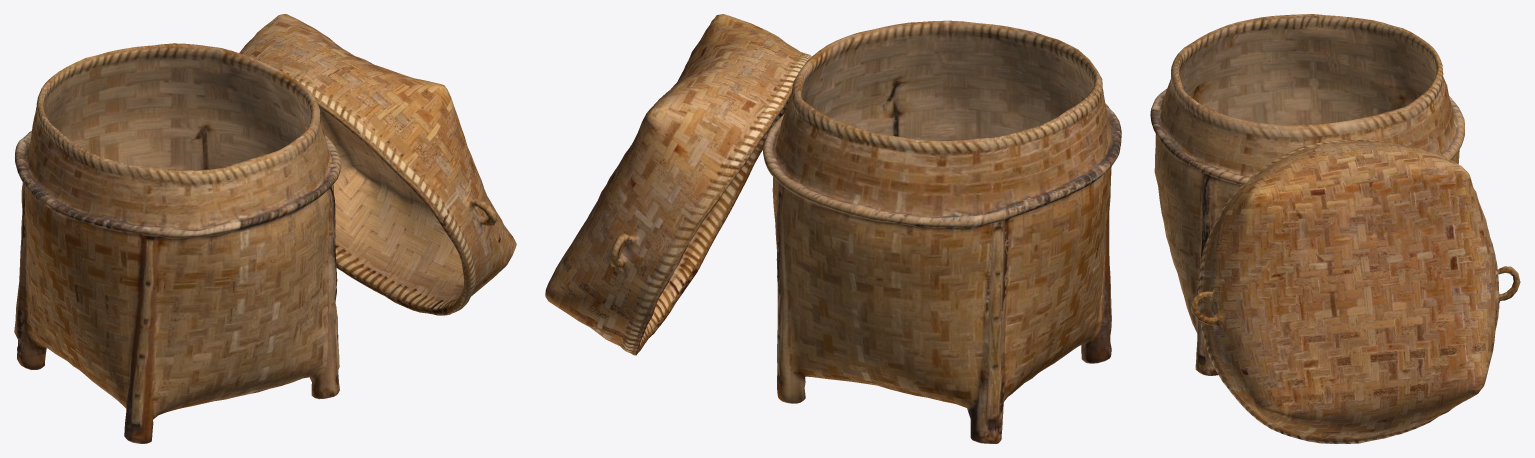
File: wicker_basket_02.glb
3 views of the same model, side by side, from view 1: azimuth 30°, elevation 25°; view 2: azimuth 150°, elevation 25°; view 3: azimuth 270°, elevation 25° (orthographic). The views are drawn at different scales.
Visible parts, largest first — view 1: wicker_basket_02_base, wicker_basket_02_lid; view 2: wicker_basket_02_base, wicker_basket_02_lid; view 3: wicker_basket_02_lid, wicker_basket_02_base.
Part boxes in pixels (x1,y1,x2,y2): wicker_basket_02_base: (14, 43, 341, 443); wicker_basket_02_lid: (239, 14, 516, 315); wicker_basket_02_base: (763, 20, 1121, 443); wicker_basket_02_lid: (545, 14, 811, 355); wicker_basket_02_lid: (1190, 140, 1520, 443); wicker_basket_02_base: (1150, 14, 1464, 375).
Bounding box in the file's own units: 0.3469 × 0.2005 × 0.2544.
Materials: 1 (1 with a texture image).
